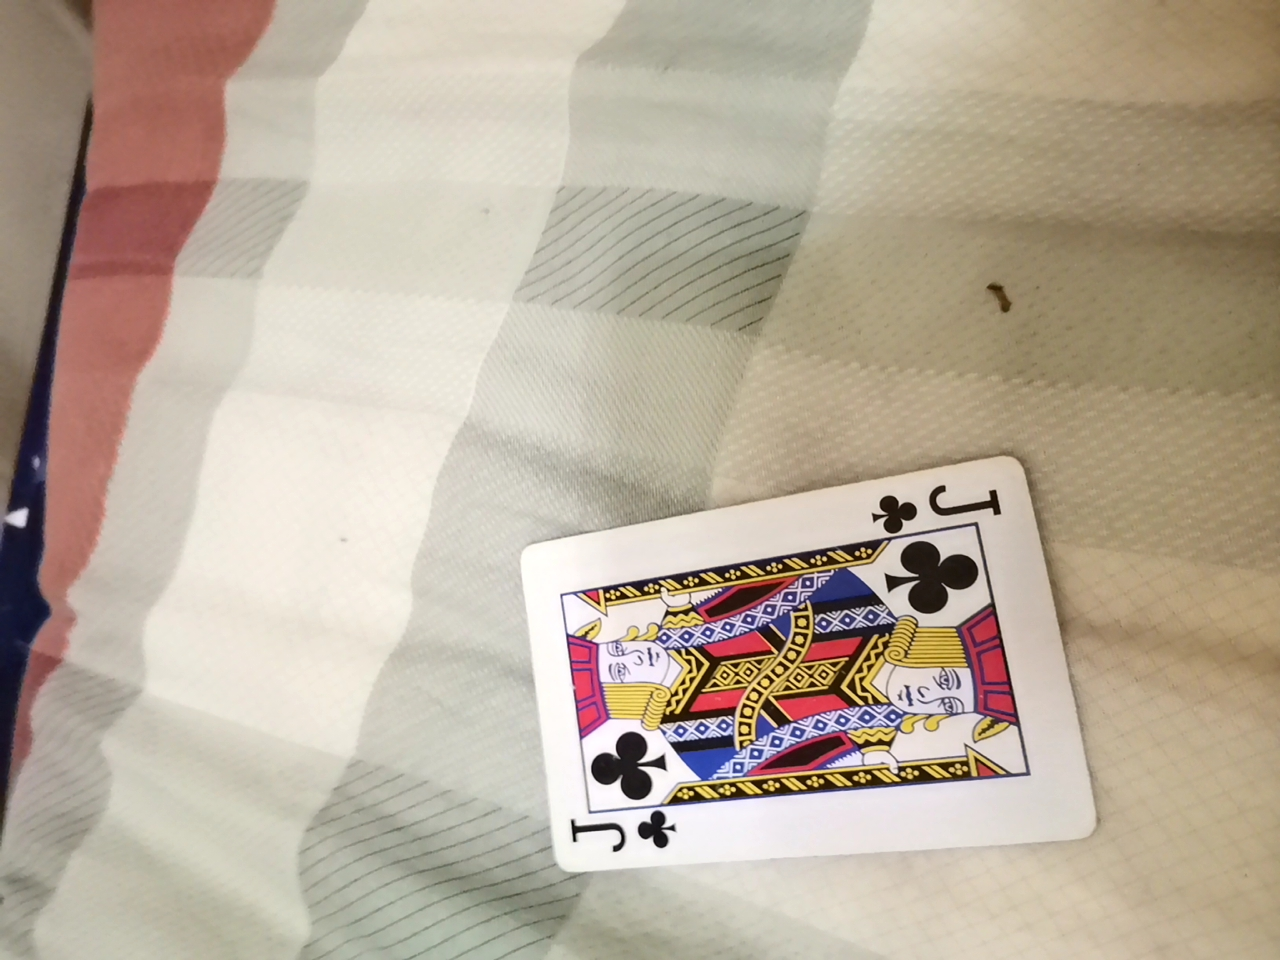mh j: (508, 462, 1089, 887)
